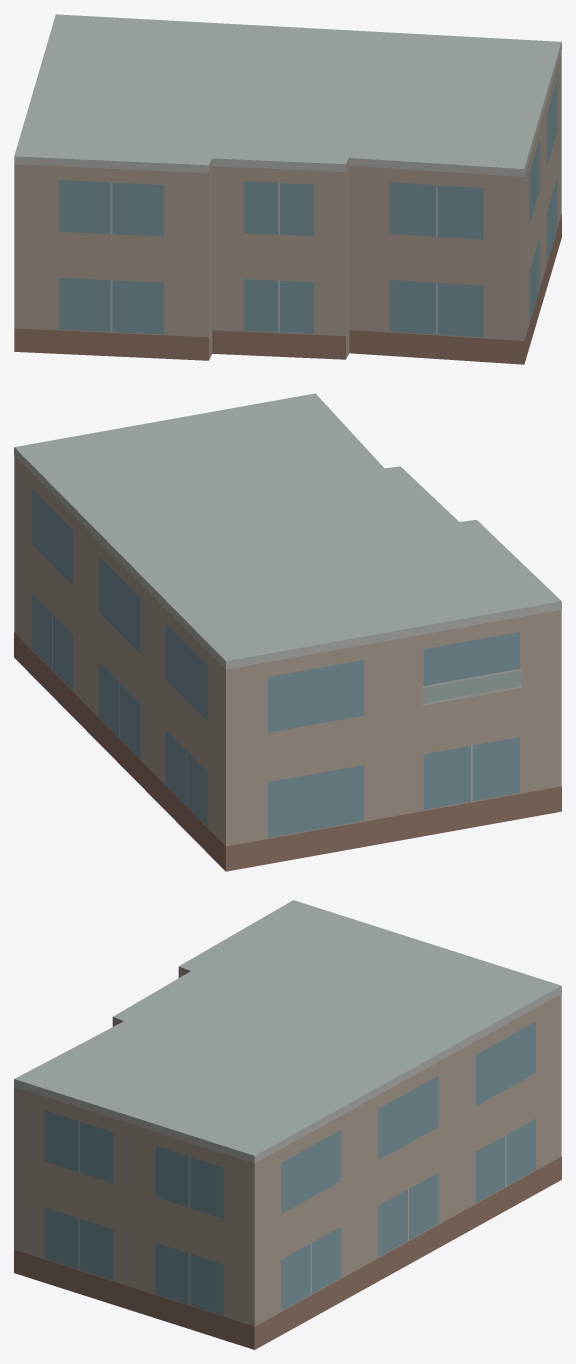
Rendered from survey-upis-32936236.glb.
The picture shows the model from 3 angles, top to bottom: view 1: azimuth 30°, elevation 25°; view 2: azimuth 150°, elevation 25°; view 3: azimuth 270°, elevation 25°; orthographic projection. The views are drawn at different scales.
Visible parts, largest first — view 1: survey-upis-32936236.tmp; view 2: survey-upis-32936236.tmp; view 3: survey-upis-32936236.tmp.
Part boxes in pixels (x1,y1,x2,y2): survey-upis-32936236.tmp: (14,14,561,364); survey-upis-32936236.tmp: (14,393,561,871); survey-upis-32936236.tmp: (14,900,561,1349).
Bounding box in the file's own units: 17.27 × 6.1 × 15.62.
